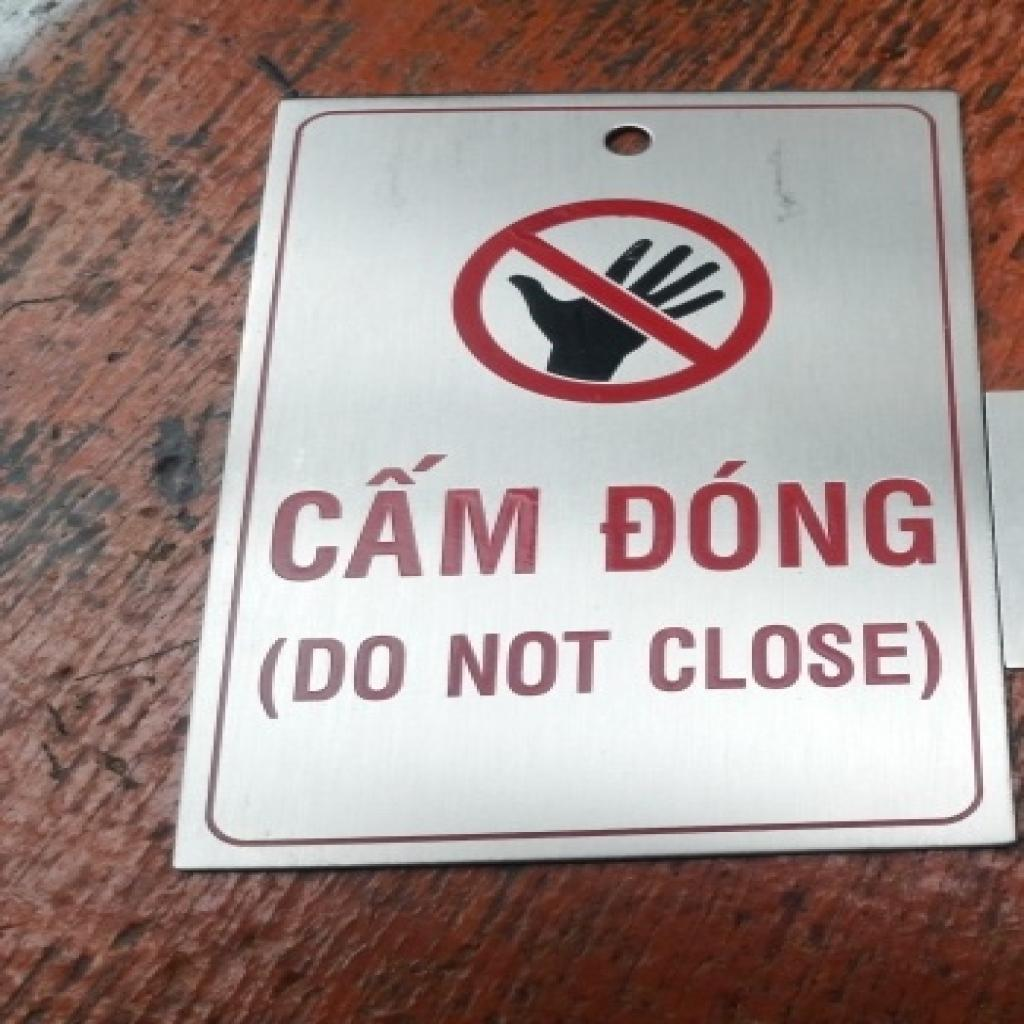text: (594, 459, 942, 576), (266, 454, 541, 584), (252, 634, 410, 723), (448, 629, 614, 700)
